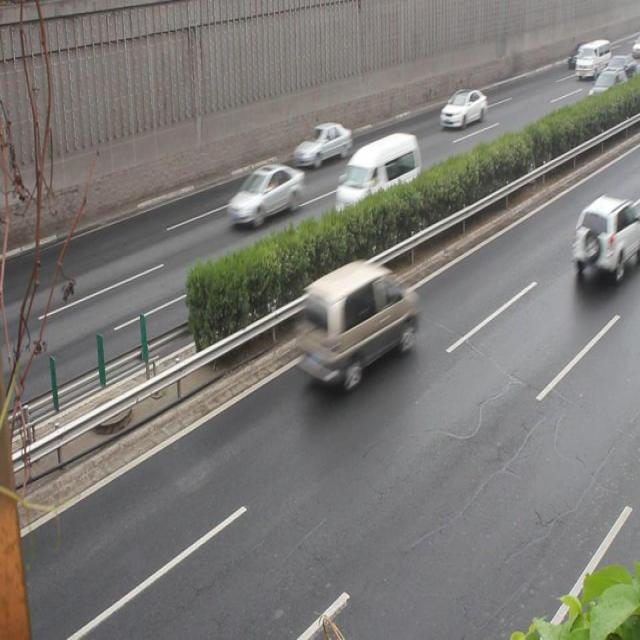car: (572, 192, 640, 277), (226, 162, 302, 223), (292, 120, 351, 164), (437, 85, 484, 126)
